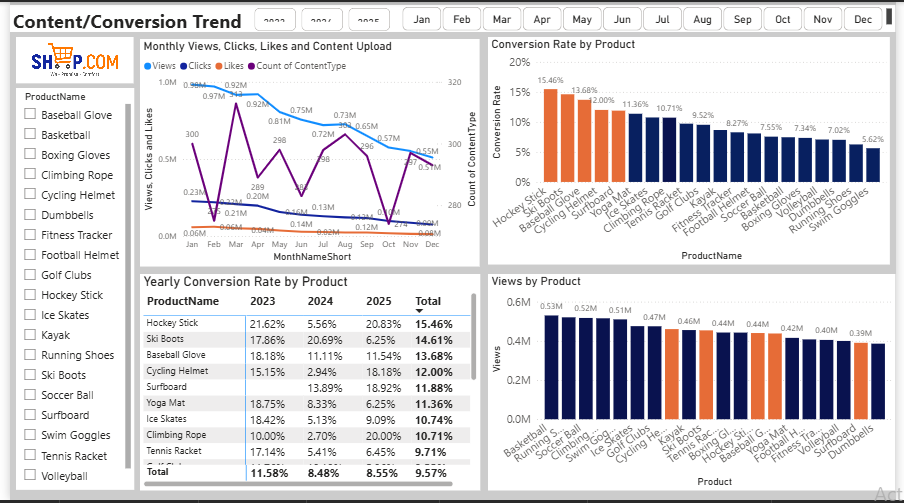

Layout of this report page (visuals, bound fields, positions):
{"tool":"powerbi","page":{"name":"Content/Conversion Trend","canvas":[1280,720],"ordinal":5},"visuals":[{"type":"clusteredColumnChart","title":"Conversion Rate by Product","fields":{"Category":["dim_products.ProductName"],"Y":["_Calculations.Conversion Rate"]},"box":[691.4,50,581.4,328.6],"z":0},{"type":"clusteredColumnChart","fields":{"Y":["_Calculations.Views"],"Category":["dim_products.ProductName"]},"box":[691,393,589,313],"z":1000},{"type":"textbox","box":[0,4.7,1279.9,39],"z":2000},{"type":"advancedSlicerVisual","fields":{"Values":["Calendar.Year"]},"box":[348.4,9,201.3,38.7],"z":3000},{"type":"advancedSlicerVisual","fields":{"Values":["Calendar.MonthNameShort"]},"box":[563,7.6,710,39],"z":4000},{"type":"pivotTable","title":"Yearly Conversion Rate by Product","fields":{"Rows":["dim_products.ProductName"],"Values":["_Calculations.Conversion Rate"],"Columns":["Calendar.Year"]},"box":[188,393,492,313],"z":5000},{"type":"slicer","fields":{"Values":["dim_products.ProductName"]},"box":[8.7,124.3,170.6,581.2],"z":6000},{"type":"actionButton","box":[8.6,50,170,67.1],"z":7000},{"type":"lineChart","title":"Monthly Views, Clicks, Likes and Content Upload ","fields":{"Category":["Calendar.MonthNameShort"],"Y":["_Calculations.Views","_Calculations.Clicks","_Calculations.Likes"],"Y2":["CountNonNull(fact_engagement_data.ContentType)"]},"box":[188.6,52.9,491.4,328.6],"z":8000}]}

Visuals, with their boxes in screenshot pixels (x1, y1, x2, y2), scaled from the page's 1280x720 canvas onto the 904x503 screenshot:
"Conversion Rate by Product" clusteredColumnChart: bbox=[488, 35, 899, 264]
clusteredColumnChart - _Calculations.Views x dim_products.ProductName: bbox=[488, 275, 903, 493]
textbox: bbox=[0, 3, 903, 31]
advancedSlicerVisual - Calendar.Year: bbox=[246, 6, 388, 33]
advancedSlicerVisual - Calendar.MonthNameShort: bbox=[398, 5, 899, 33]
"Yearly Conversion Rate by Product" pivotTable: bbox=[133, 275, 480, 493]
slicer - dim_products.ProductName: bbox=[6, 87, 127, 493]
actionButton: bbox=[6, 35, 126, 82]
"Monthly Views, Clicks, Likes and Content Upload " lineChart: bbox=[133, 37, 480, 267]
